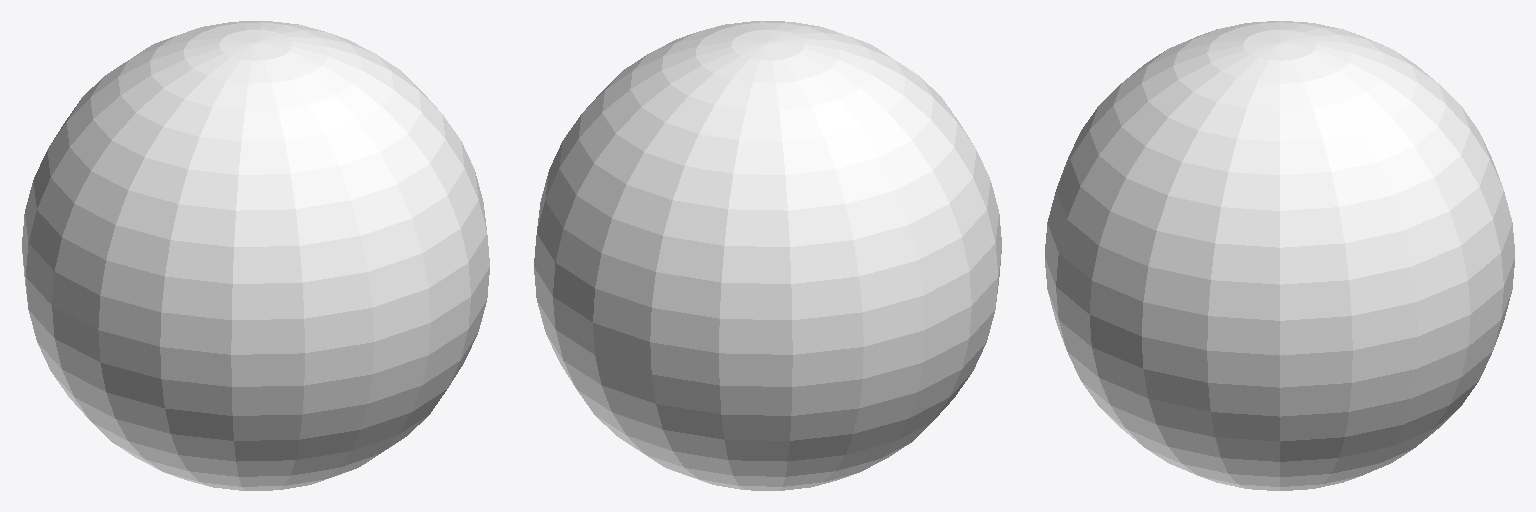
The model's file is mars.obj.
3 renders of one model, left to right at view 1: azimuth 30°, elevation 25°; view 2: azimuth 150°, elevation 25°; view 3: azimuth 270°, elevation 25°, orthographic.
Parts seen in each view (by area): view 1: Mars; view 2: Mars; view 3: Mars.
Boxes of the visible parts, x1=… form: Mars: x1=22, y1=21, x2=489, y2=490; Mars: x1=534, y1=21, x2=1001, y2=490; Mars: x1=1045, y1=21, x2=1514, y2=490.
Bounding box in the file's own units: 0.3393 × 0.3393 × 0.3393.